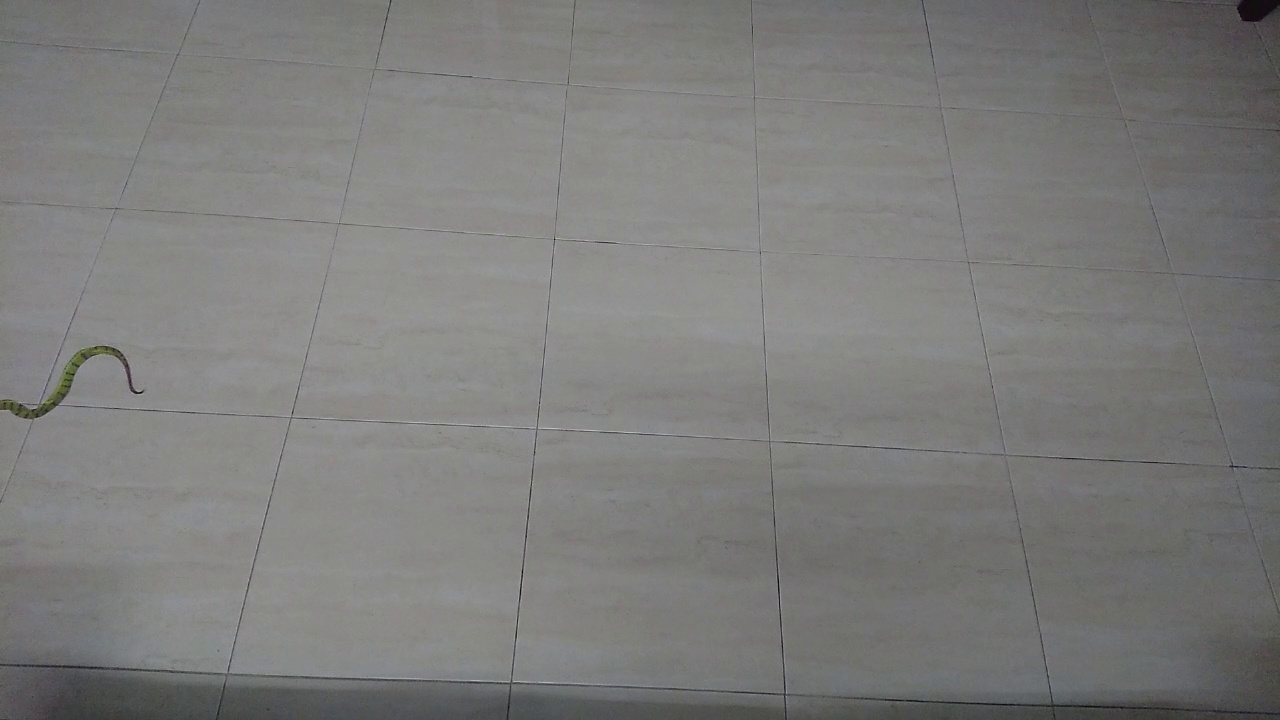snake: (1, 331, 166, 436)
